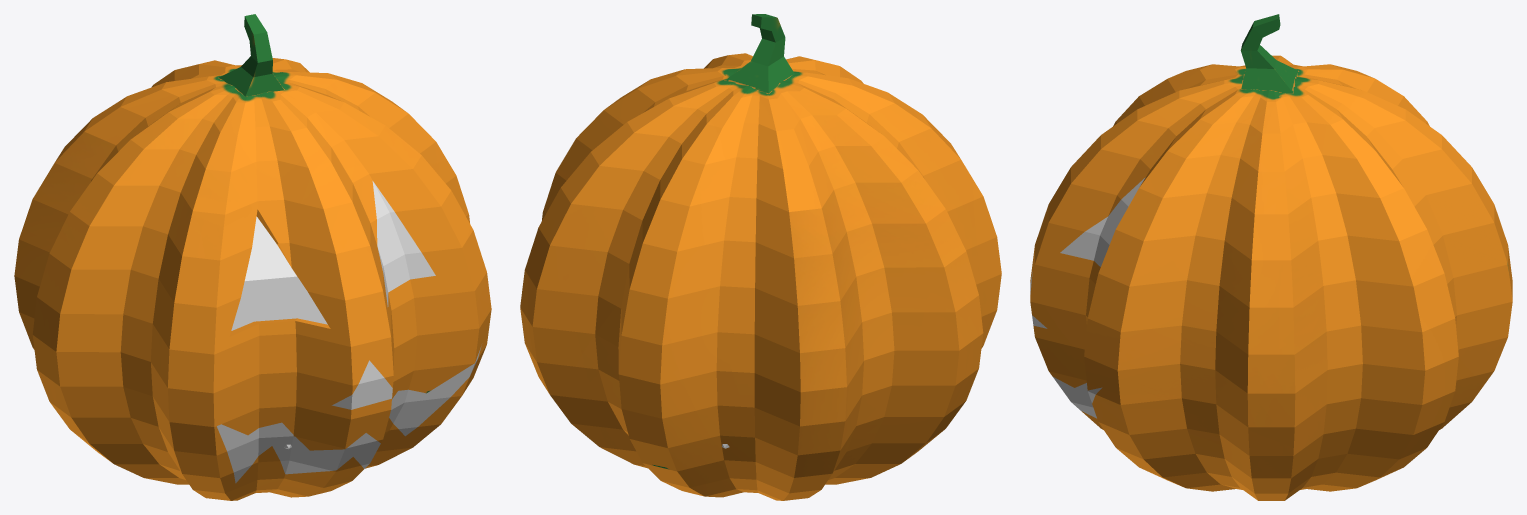
File: pumpkin.fbx
3 renders of one model, left to right at view 1: azimuth 30°, elevation 25°; view 2: azimuth 150°, elevation 25°; view 3: azimuth 270°, elevation 25°, orthographic.
Parts seen in each view (by area): view 1: Sphere, Mouth, Icosphere, Eye, Nose; view 2: Sphere; view 3: Sphere, Eye, Mouth.
Boxes of the visible parts, x1,y1,x2,y2 form: Sphere: (14, 14, 491, 500); Mouth: (217, 346, 481, 483); Icosphere: (231, 216, 327, 448); Eye: (372, 181, 435, 306); Nose: (332, 360, 392, 409); Sphere: (520, 14, 1001, 500); Sphere: (1030, 14, 1512, 500); Eye: (1060, 177, 1145, 266); Mouth: (1052, 376, 1102, 418).
Size of the model in its own units: 199 by 209 by 199.
Materials: 1 (1 with a texture image).
